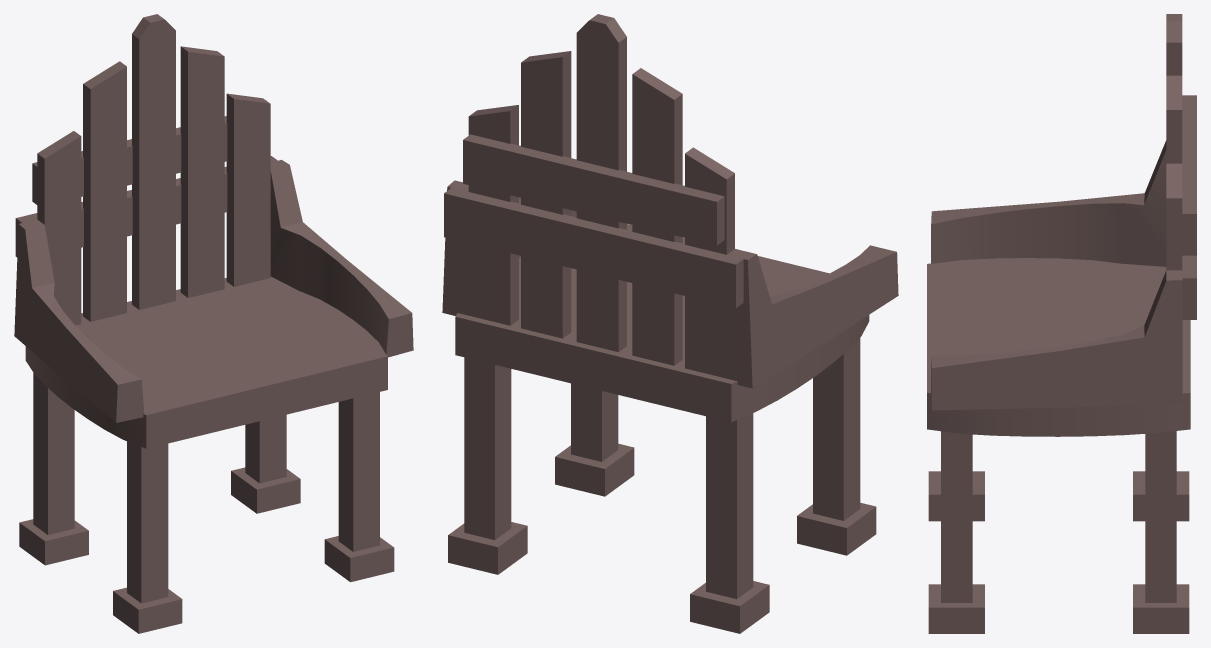
Rendered from chair02_color01.fbx.
3 renders of one model, left to right at view 1: azimuth 30°, elevation 25°; view 2: azimuth 150°, elevation 25°; view 3: azimuth 270°, elevation 25°, orthographic. The views are drawn at different scales.
Parts seen in each view (by area): view 1: chair02_color01; view 2: chair02_color01; view 3: chair02_color01.
Boxes of the visible parts, bbox=[...] form: chair02_color01: bbox=[14, 14, 413, 633]; chair02_color01: bbox=[442, 14, 898, 633]; chair02_color01: bbox=[927, 14, 1196, 633].
Bounding box in the file's own units: 80.85 × 130 × 58.2.
